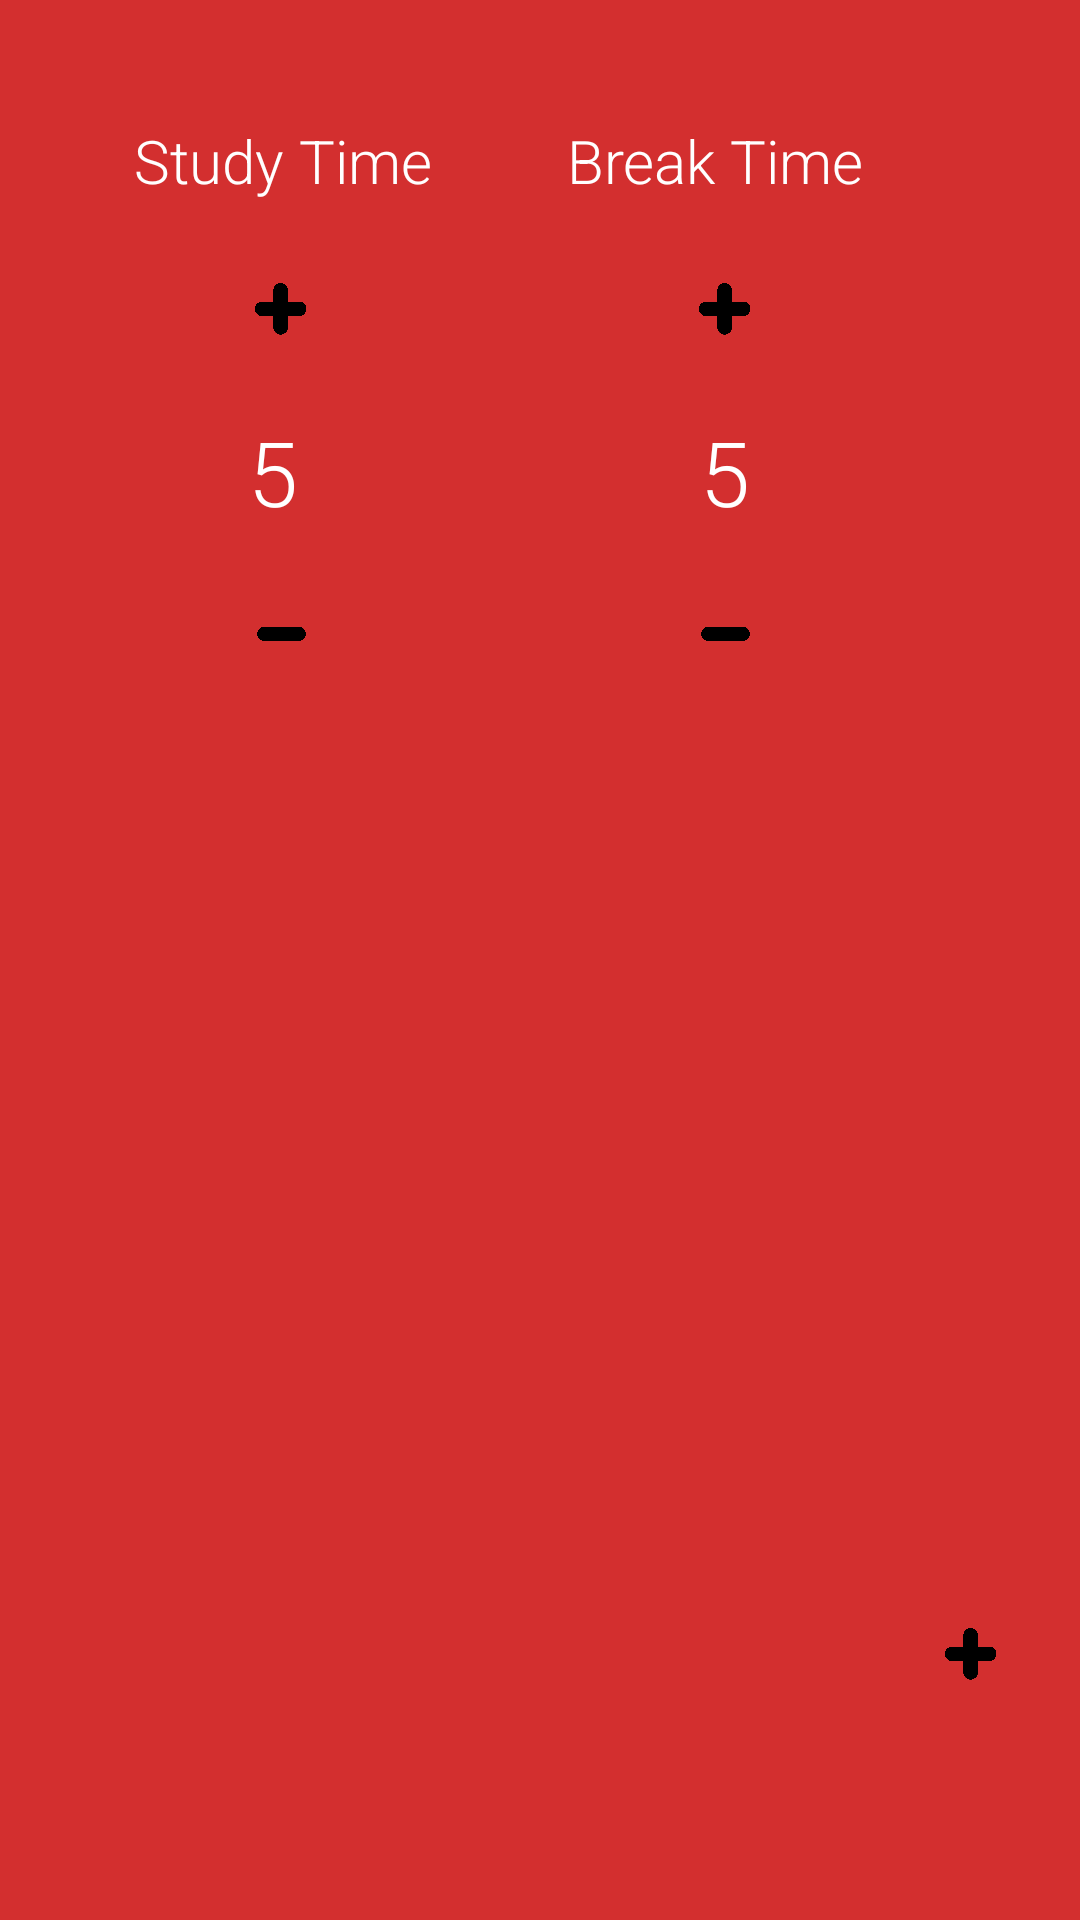

Icons on this 1080 × 1920 Android screen, each with the point to tap as (x=x, y=y):
plus: (x=280, y=309), (x=724, y=309), (x=970, y=1654)
